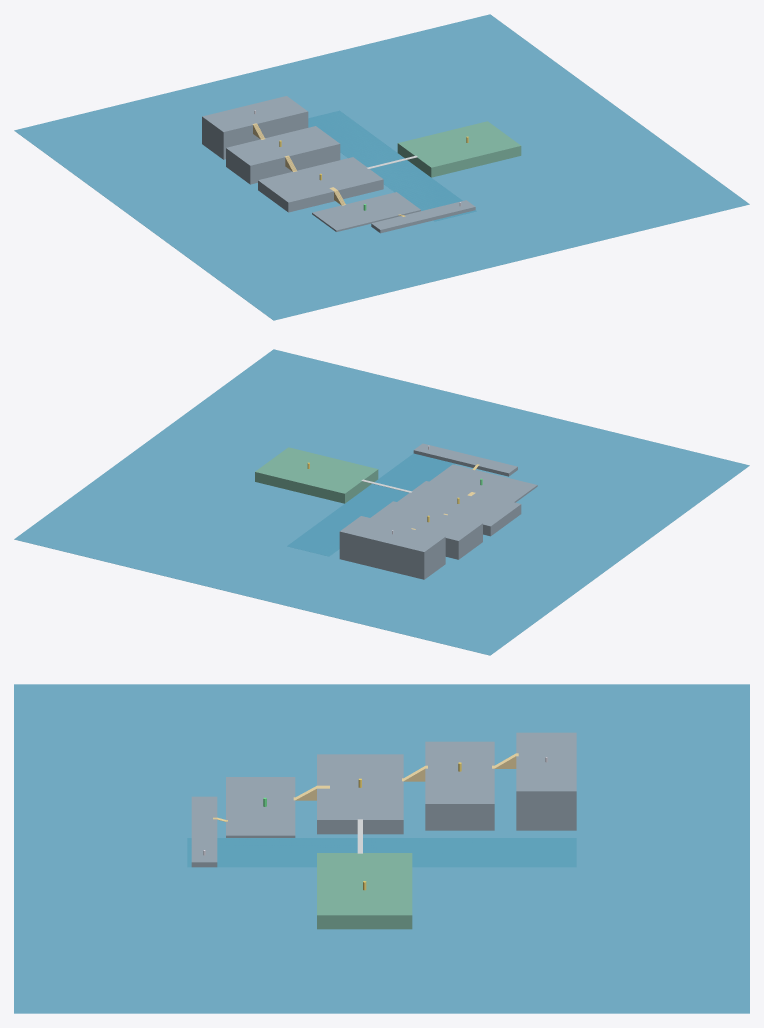
Rendered from greybox.glb.
3 renders of one model, top to bottom at view 1: azimuth 30°, elevation 25°; view 2: azimuth 150°, elevation 25°; view 3: azimuth 270°, elevation 25°, orthographic. The views are drawn at different scales.
Parts seen in each view (by area): view 1: SEA, WATER_風暴之脊峽灣, ZONE_enclave, ZONE_harborward, ZONE_smithies, ZONE_longhouse, ZONE_quay, ZONE_breakwater; view 2: SEA, ZONE_longhouse, WATER_風暴之脊峽灣, ZONE_enclave, ZONE_harborward, ZONE_smithies, ZONE_quay, ZONE_breakwater; view 3: SEA, WATER_風暴之脊峽灣, ZONE_enclave, ZONE_harborward, ZONE_smithies, ZONE_longhouse, ZONE_quay, ZONE_breakwater.
Boxes of the visible parts, x1,y1,x2,y2 form: SEA: [14, 14, 749, 320]; WATER_風暴之脊峽灣: [308, 111, 476, 221]; ZONE_enclave: [397, 121, 521, 177]; ZONE_harborward: [258, 157, 383, 212]; ZONE_smithies: [226, 126, 340, 184]; ZONE_longhouse: [202, 96, 308, 159]; ZONE_quay: [312, 192, 420, 231]; ZONE_breakwater: [371, 200, 475, 233]; SEA: [14, 349, 749, 655]; ZONE_longhouse: [339, 516, 445, 579]; WATER_風暴之脊峽灣: [287, 453, 454, 556]; ZONE_enclave: [255, 447, 378, 503]; ZONE_harborward: [397, 481, 521, 536]; ZONE_smithies: [370, 501, 482, 559]; ZONE_quay: [429, 464, 537, 502]; ZONE_breakwater: [413, 443, 517, 476]; SEA: [14, 684, 749, 1013]; WATER_風暴之脊峽灣: [187, 838, 576, 867]; ZONE_enclave: [317, 853, 412, 929]; ZONE_harborward: [317, 754, 403, 834]; ZONE_smithies: [425, 741, 494, 830]; ZONE_longhouse: [516, 732, 576, 830]; ZONE_quay: [226, 777, 295, 837]; ZONE_breakwater: [191, 796, 217, 867].
Size of the model in its own units: 900 by 56.3 by 850.
